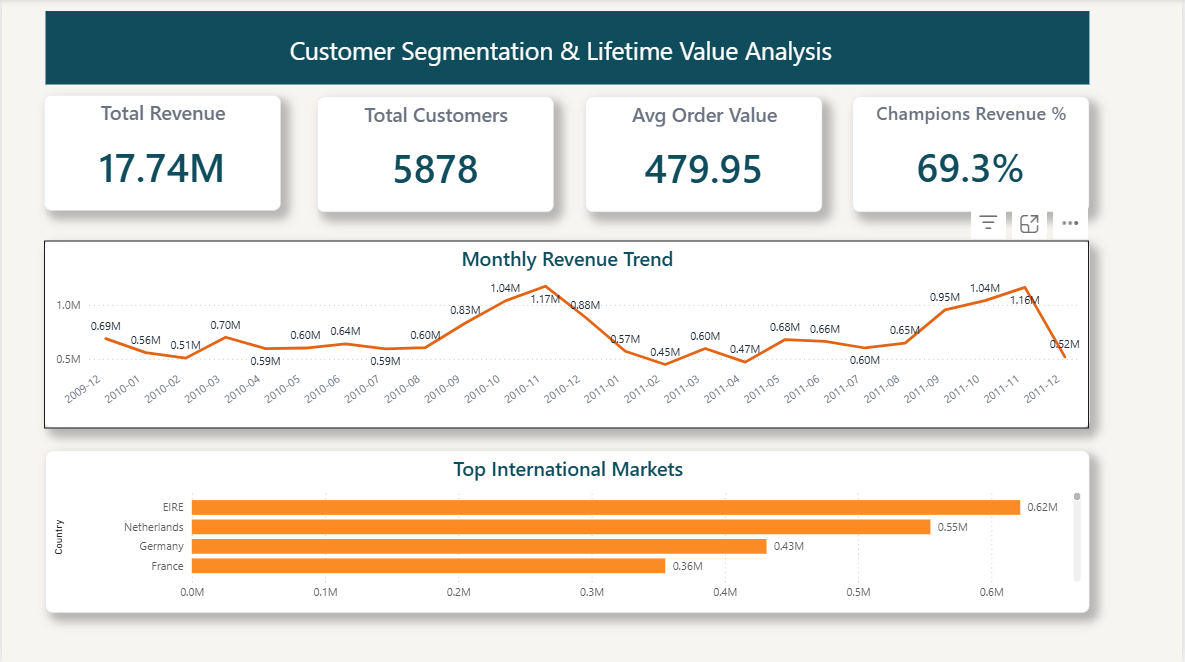

The page's visual inventory and layout, read from the dashboard file:
{"tool":"powerbi","page":{"name":"Executive Overview","canvas":[1280,720],"ordinal":0},"visuals":[{"type":"textbox","box":[52,24.4,1093,24.4],"z":0},{"type":"card","title":"Total Revenue","fields":{"Values":["online_retail_II_cleaned_data.Total_Revenue"]},"box":[45.5,104.1,257,125.2],"z":1000},{"type":"card","title":"Total Customers","fields":{"Values":["online_retail_II_cleaned_data.Total Customers"]},"box":[341.6,105.7,257,125.2],"z":2000},{"type":"card","title":"Avg Order Value","fields":{"Values":["online_retail_II_cleaned_data.Avg Order Value"]},"box":[632.7,105.7,257,125.2],"z":3000},{"type":"card","title":"Champions Revenue %","fields":{"Values":["customer_clv.Champions Revenue %"]},"box":[922.3,105.7,257,125.2],"z":4000},{"type":"lineChart","title":"Monthly Revenue Trend","fields":{"Y":["online_retail_II_cleaned_data.Total_Revenue"],"Category":["online_retail_II_cleaned_data.Year-Month"]},"box":[45.5,261.9,1133.7,203.3],"z":5000},{"type":"barChart","title":"Top International Markets","fields":{"Category":["online_retail_II_cleaned_data.Country"],"Y":["online_retail_II_cleaned_data.Total_Revenue"]},"box":[47.2,489.6,1132.1,175.7],"z":6000},{"type":"shape","box":[47.2,13,1132.1,79.7],"z":7000},{"type":"textbox","box":[268.4,32.5,675,60.2],"z":8000}]}

Visuals, with their boxes in screenshot pixels (x1, y1, x2, y2), scaled from the page's 1280x720 canvas onto the 1185x662 screenshot:
textbox: [x1=48, y1=22, x2=1060, y2=45]
"Total Revenue" card: [x1=42, y1=96, x2=280, y2=211]
"Total Customers" card: [x1=316, y1=97, x2=554, y2=212]
"Avg Order Value" card: [x1=586, y1=97, x2=824, y2=212]
"Champions Revenue %" card: [x1=854, y1=97, x2=1092, y2=212]
"Monthly Revenue Trend" lineChart: [x1=42, y1=241, x2=1092, y2=428]
"Top International Markets" barChart: [x1=44, y1=450, x2=1092, y2=612]
shape: [x1=44, y1=12, x2=1092, y2=85]
textbox: [x1=248, y1=30, x2=873, y2=85]
